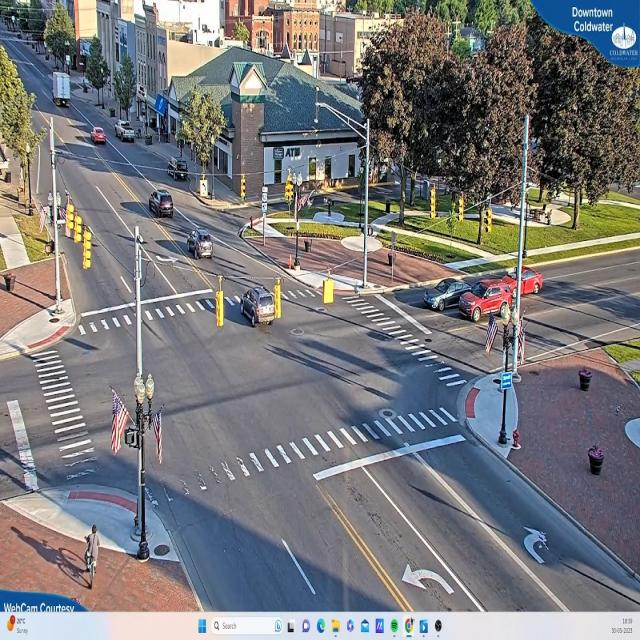car: (188, 230, 216, 260), (150, 189, 176, 219), (165, 159, 189, 180), (117, 123, 136, 143), (92, 128, 106, 144)
